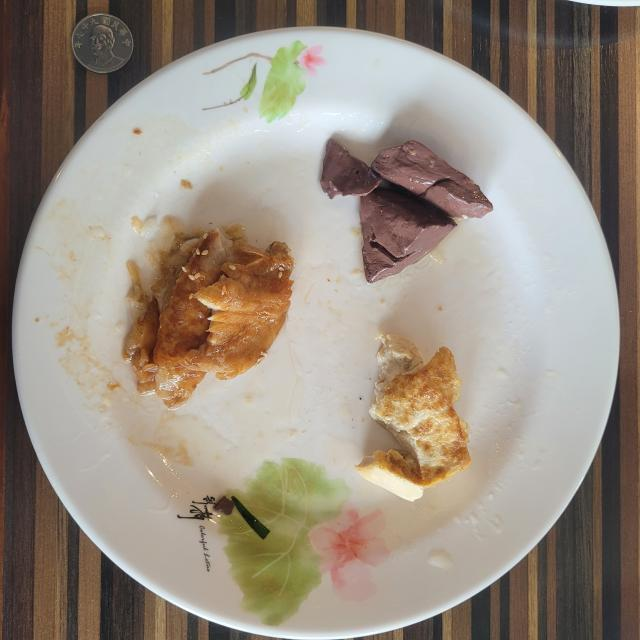Kabayaki sea bream fillet: (124, 225, 294, 409)
coin: (71, 14, 134, 74)
pig blood curd: (360, 140, 492, 282), (321, 140, 374, 198)
